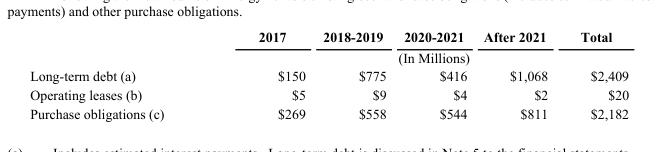table: (29, 28, 628, 121)
table column: (29, 28, 210, 121), (210, 28, 313, 121), (474, 28, 563, 121), (313, 28, 394, 121), (394, 28, 474, 121), (563, 28, 628, 121)
table column header: (29, 28, 628, 66)
table row: (29, 46, 628, 66), (29, 66, 628, 85), (29, 85, 628, 104), (29, 28, 628, 46), (29, 104, 628, 121)
table spanning cell: (210, 46, 628, 66)
